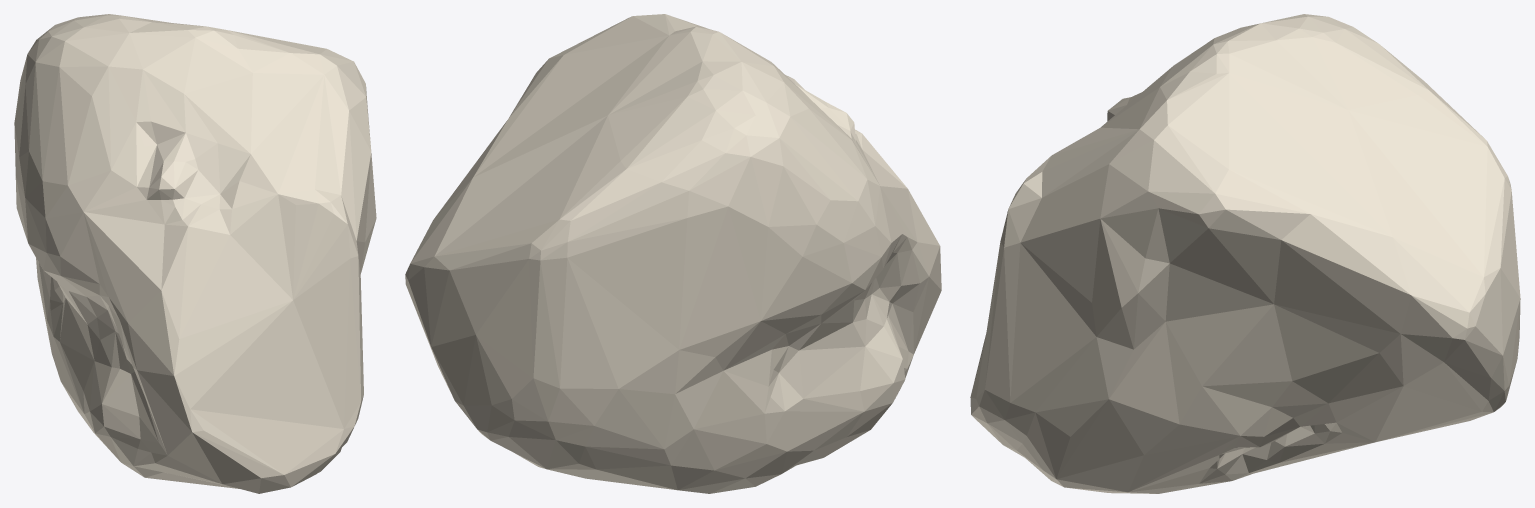
The model's file is left_triquetrum.glb.
3 views of the same model, side by side, from view 1: azimuth 30°, elevation 25°; view 2: azimuth 150°, elevation 25°; view 3: azimuth 270°, elevation 25° (orthographic). The views are drawn at different scales.
Visible parts, largest first — view 1: left_triquetrum; view 2: left_triquetrum; view 3: left_triquetrum.
Boxes of the visible parts, <box> form: left_triquetrum: <box>14,14,376,493</box>; left_triquetrum: <box>405,14,941,493</box>; left_triquetrum: <box>970,14,1520,493</box>.
Bounding box in the file's own units: 0.0113 × 0.0139 × 0.0155.
